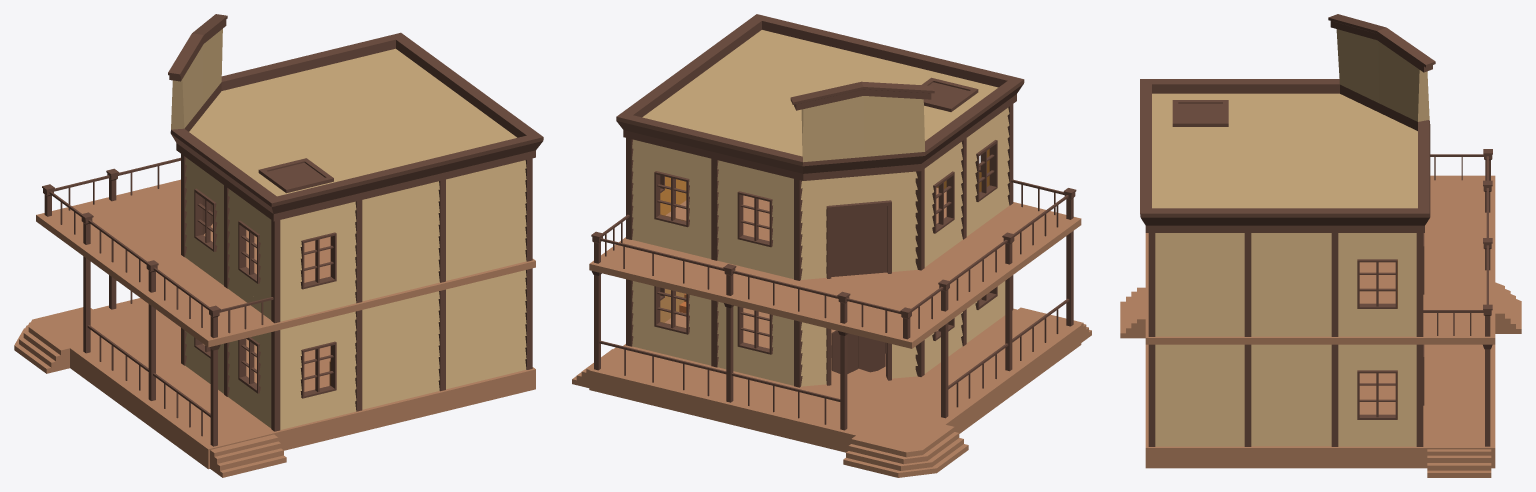
File: Saloon_Together.fbx
3 renders of one model, left to right at view 1: azimuth 30°, elevation 25°; view 2: azimuth 150°, elevation 25°; view 3: azimuth 270°, elevation 25°, orthographic. The views are drawn at different scales.
Parts seen in each view (by area): view 1: Teto, OldalLec, Talaj, AblakosOldalLec, Emelet, KulsoKorlat, Ablak, KulsoEsOszlopok.001, KulsoEsOszlopok; view 2: Teto, Talaj, AblakosOldalLec, Emelet, KulsoKorlat, Bejarat, Ablak, KulsoEsOszlopok.001, FentiAjto, KulsoEsOszlopok, Ajto; view 3: Teto, OldalLec, Talaj, Emelet, AblakosOldalLec, KulsoEsOszlopok.001, KulsoEsOszlopok, KulsoKorlat, Ablak.
Part boxes in pixels (<box>): Teto: <box>168,14,543,221</box>; OldalLec: <box>362,160,526,409</box>; Talaj: <box>14,298,535,477</box>; AblakosOldalLec: <box>185,158,356,429</box>; Emelet: <box>36,179,535,347</box>; KulsoKorlat: <box>42,157,273,446</box>; Ablak: <box>194,188,336,398</box>; KulsoEsOszlopok.001: <box>181,154,532,323</box>; KulsoEsOszlopok: <box>181,268,532,431</box>; Teto: <box>616,14,1024,180</box>; Talaj: <box>572,307,1091,477</box>; AblakosOldalLec: <box>632,108,1009,385</box>; Emelet: <box>589,187,1081,348</box>; KulsoKorlat: <box>591,179,1076,430</box>; Bejarat: <box>801,171,917,386</box>; Ablak: <box>654,140,997,354</box>; KulsoEsOszlopok.001: <box>626,104,1013,280</box>; FentiAjto: <box>826,200,891,278</box>; KulsoEsOszlopok: <box>626,275,1013,387</box>; Ajto: <box>826,328,891,385</box>; Teto: <box>1140,14,1435,232</box>; OldalLec: <box>1155,233,1331,446</box>; Talaj: <box>1120,282,1521,477</box>; Emelet: <box>1145,175,1495,344</box>; AblakosOldalLec: <box>1338,233,1416,446</box>; KulsoEsOszlopok.001: <box>1148,233,1423,336</box>; KulsoEsOszlopok: <box>1148,344,1423,446</box>; KulsoKorlat: <box>1423,149,1492,446</box>; Ablak: <box>1357,233,1424,419</box>.
Size of the model in its own units: 3894 by 3251 by 3595.
